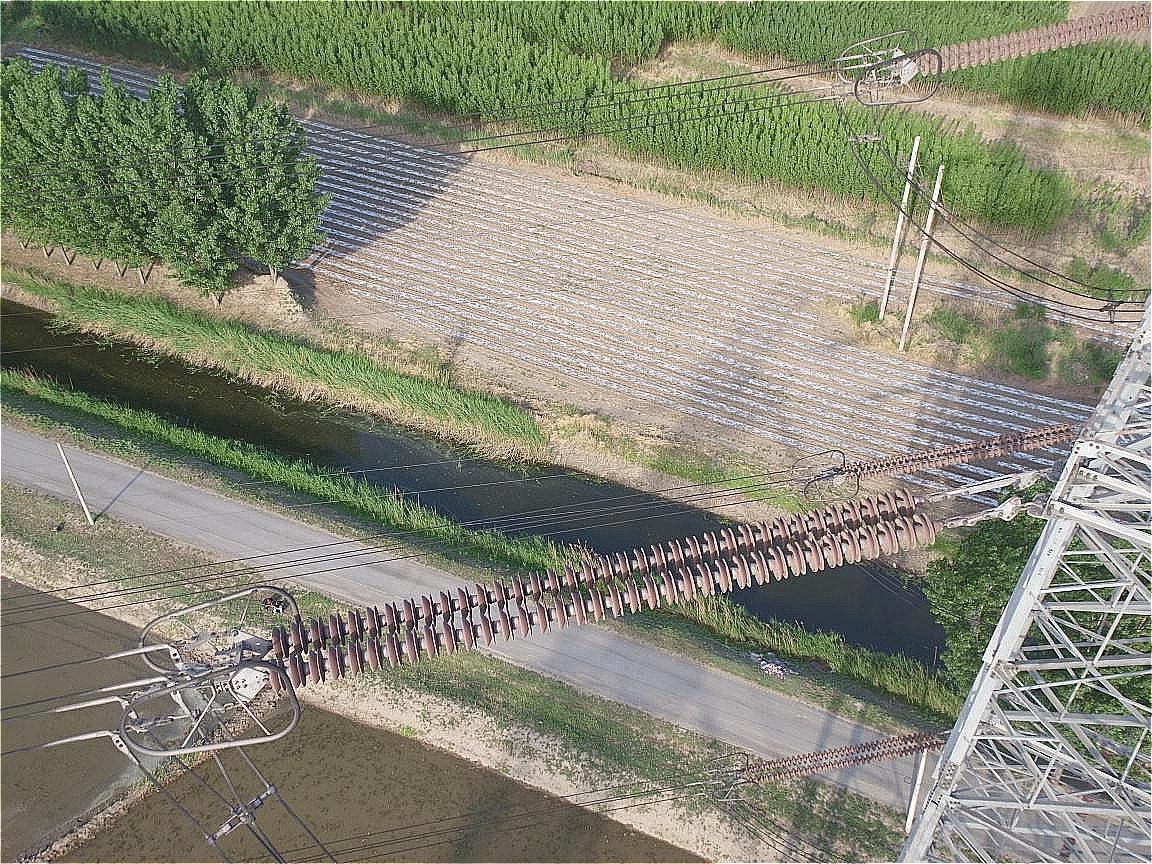insultor1: (826, 416, 1089, 489)
insultor2: (265, 478, 935, 720)
